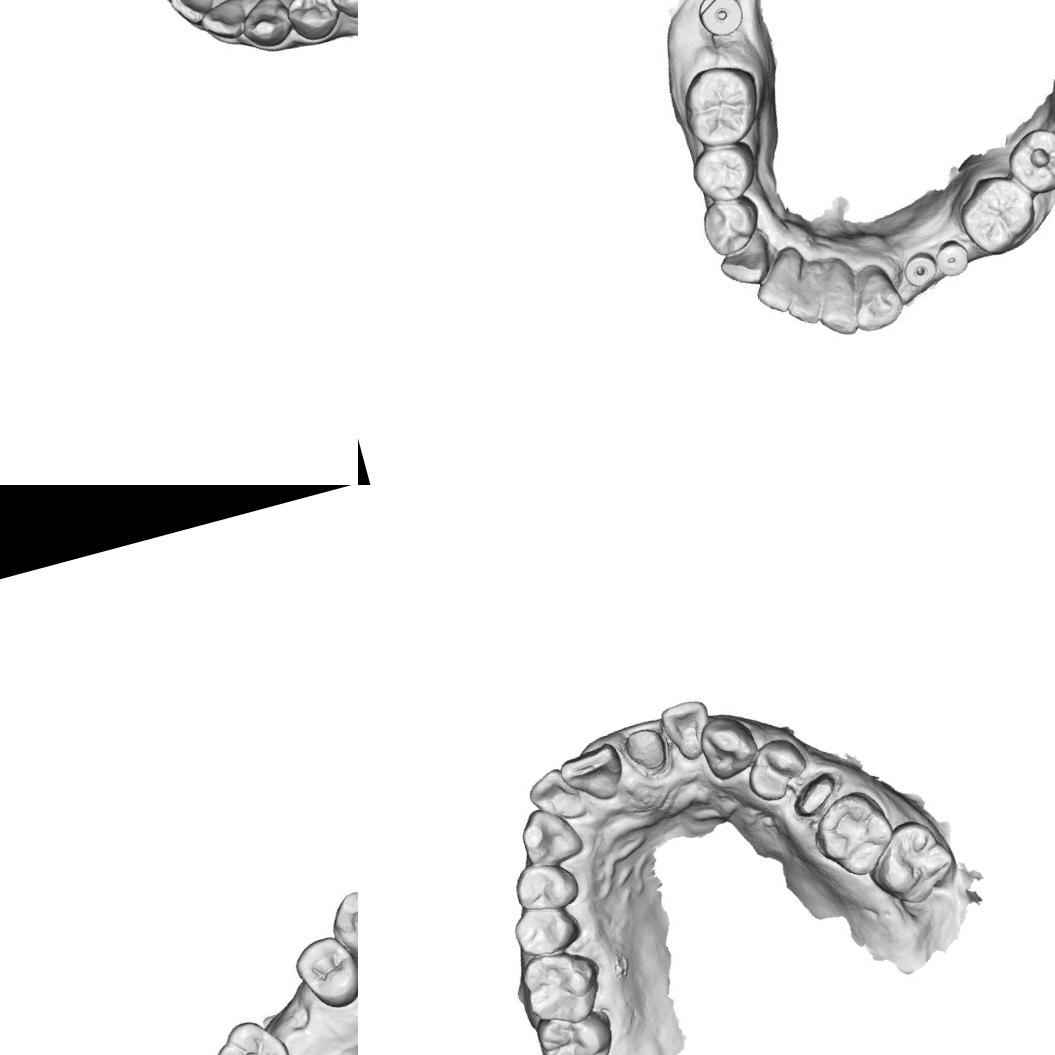canine: (514, 799, 588, 872), (694, 709, 763, 783), (846, 267, 905, 338), (712, 235, 780, 293), (323, 880, 358, 977), (234, 0, 296, 54)
crown: (782, 765, 846, 826), (617, 717, 673, 782)
implant: (692, 0, 746, 43), (899, 246, 944, 292), (932, 236, 974, 282)
incisor: (554, 739, 630, 810), (520, 760, 588, 830), (744, 251, 809, 322), (809, 265, 868, 342), (656, 695, 718, 766), (775, 256, 833, 331), (195, 0, 252, 45), (167, 0, 223, 29)
molar: (858, 811, 961, 913), (804, 784, 902, 886), (671, 54, 769, 154), (513, 938, 610, 1034), (950, 165, 1045, 263), (530, 999, 621, 1055), (998, 119, 1055, 200), (204, 1010, 303, 1055)
premolar: (289, 928, 358, 1016), (738, 732, 813, 806), (693, 189, 768, 261), (686, 137, 762, 208), (506, 895, 584, 961), (508, 854, 582, 919), (279, 0, 344, 46)
